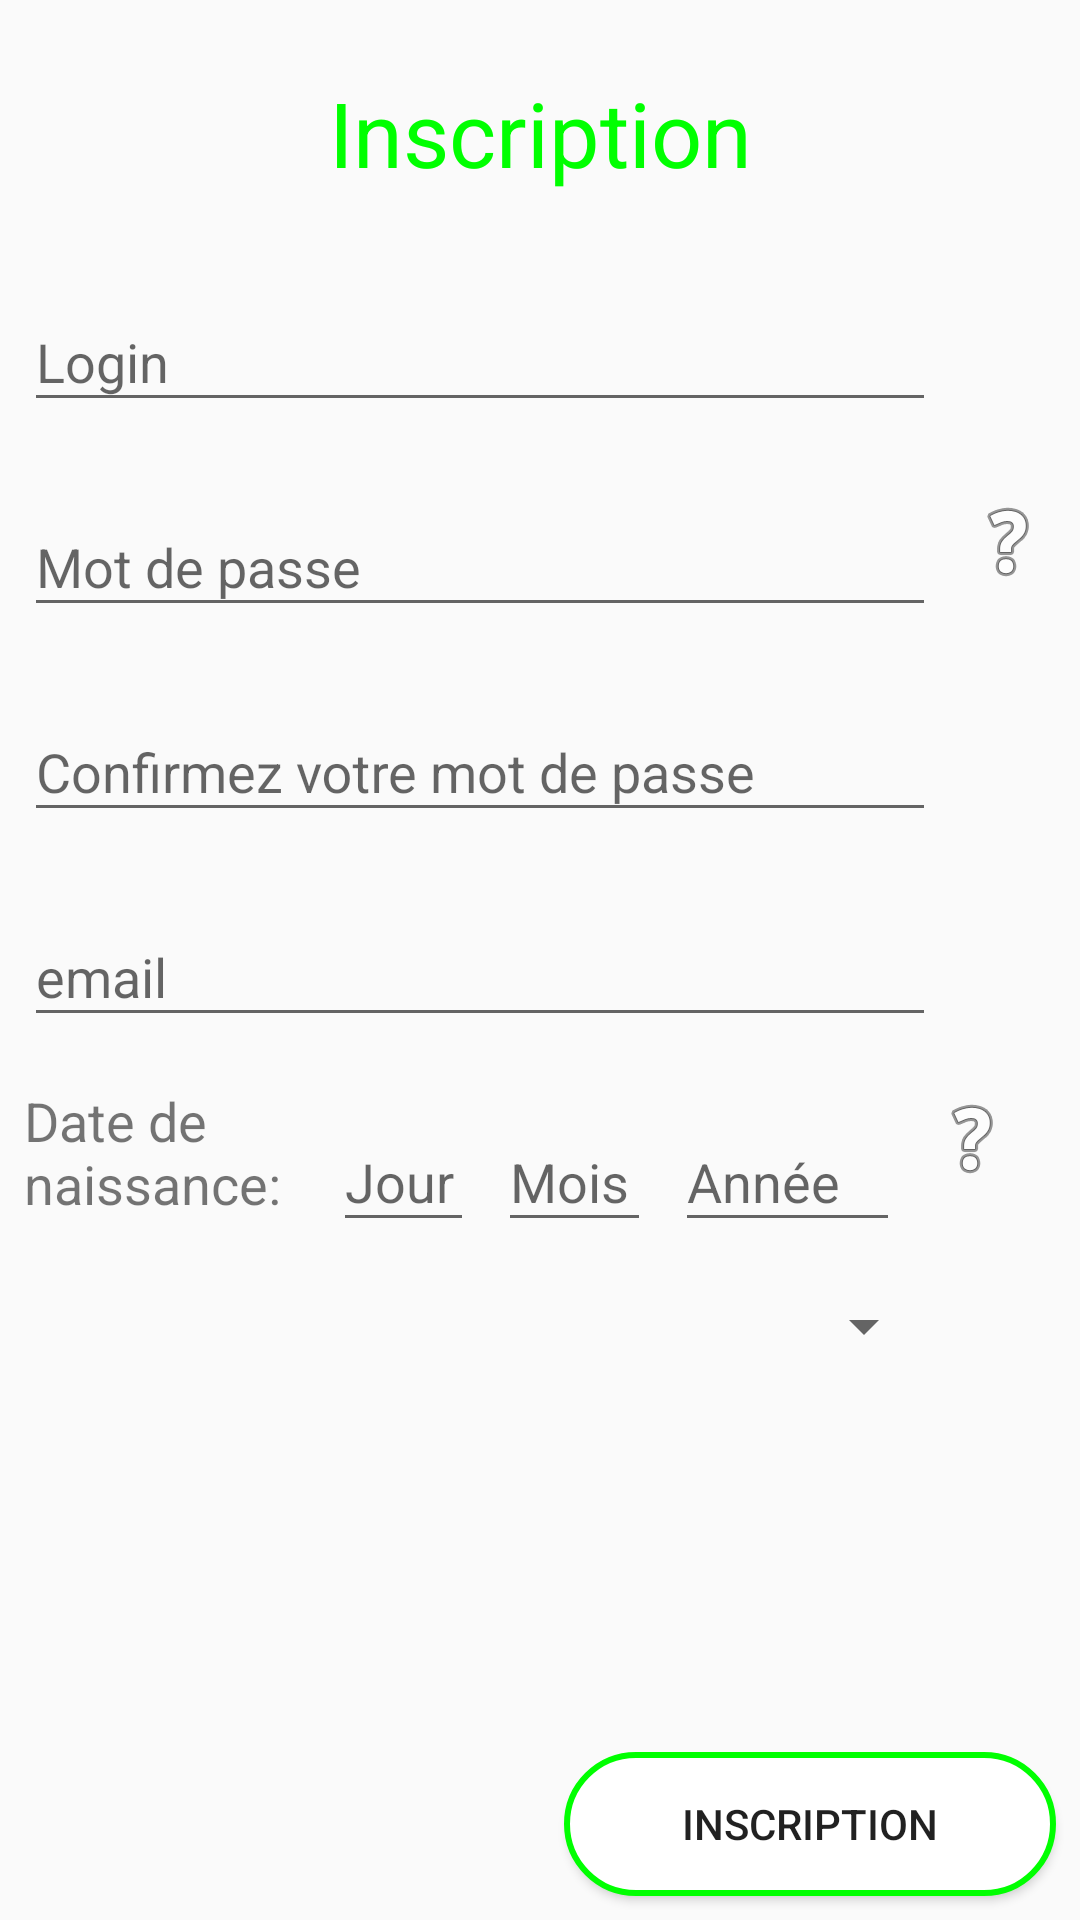

Point at icon controls on the screen. Image size 1080px x 1920px, points as (x=x, y=y).
help for birthdate: (x=972, y=1139)
help for password: (x=1008, y=542)
